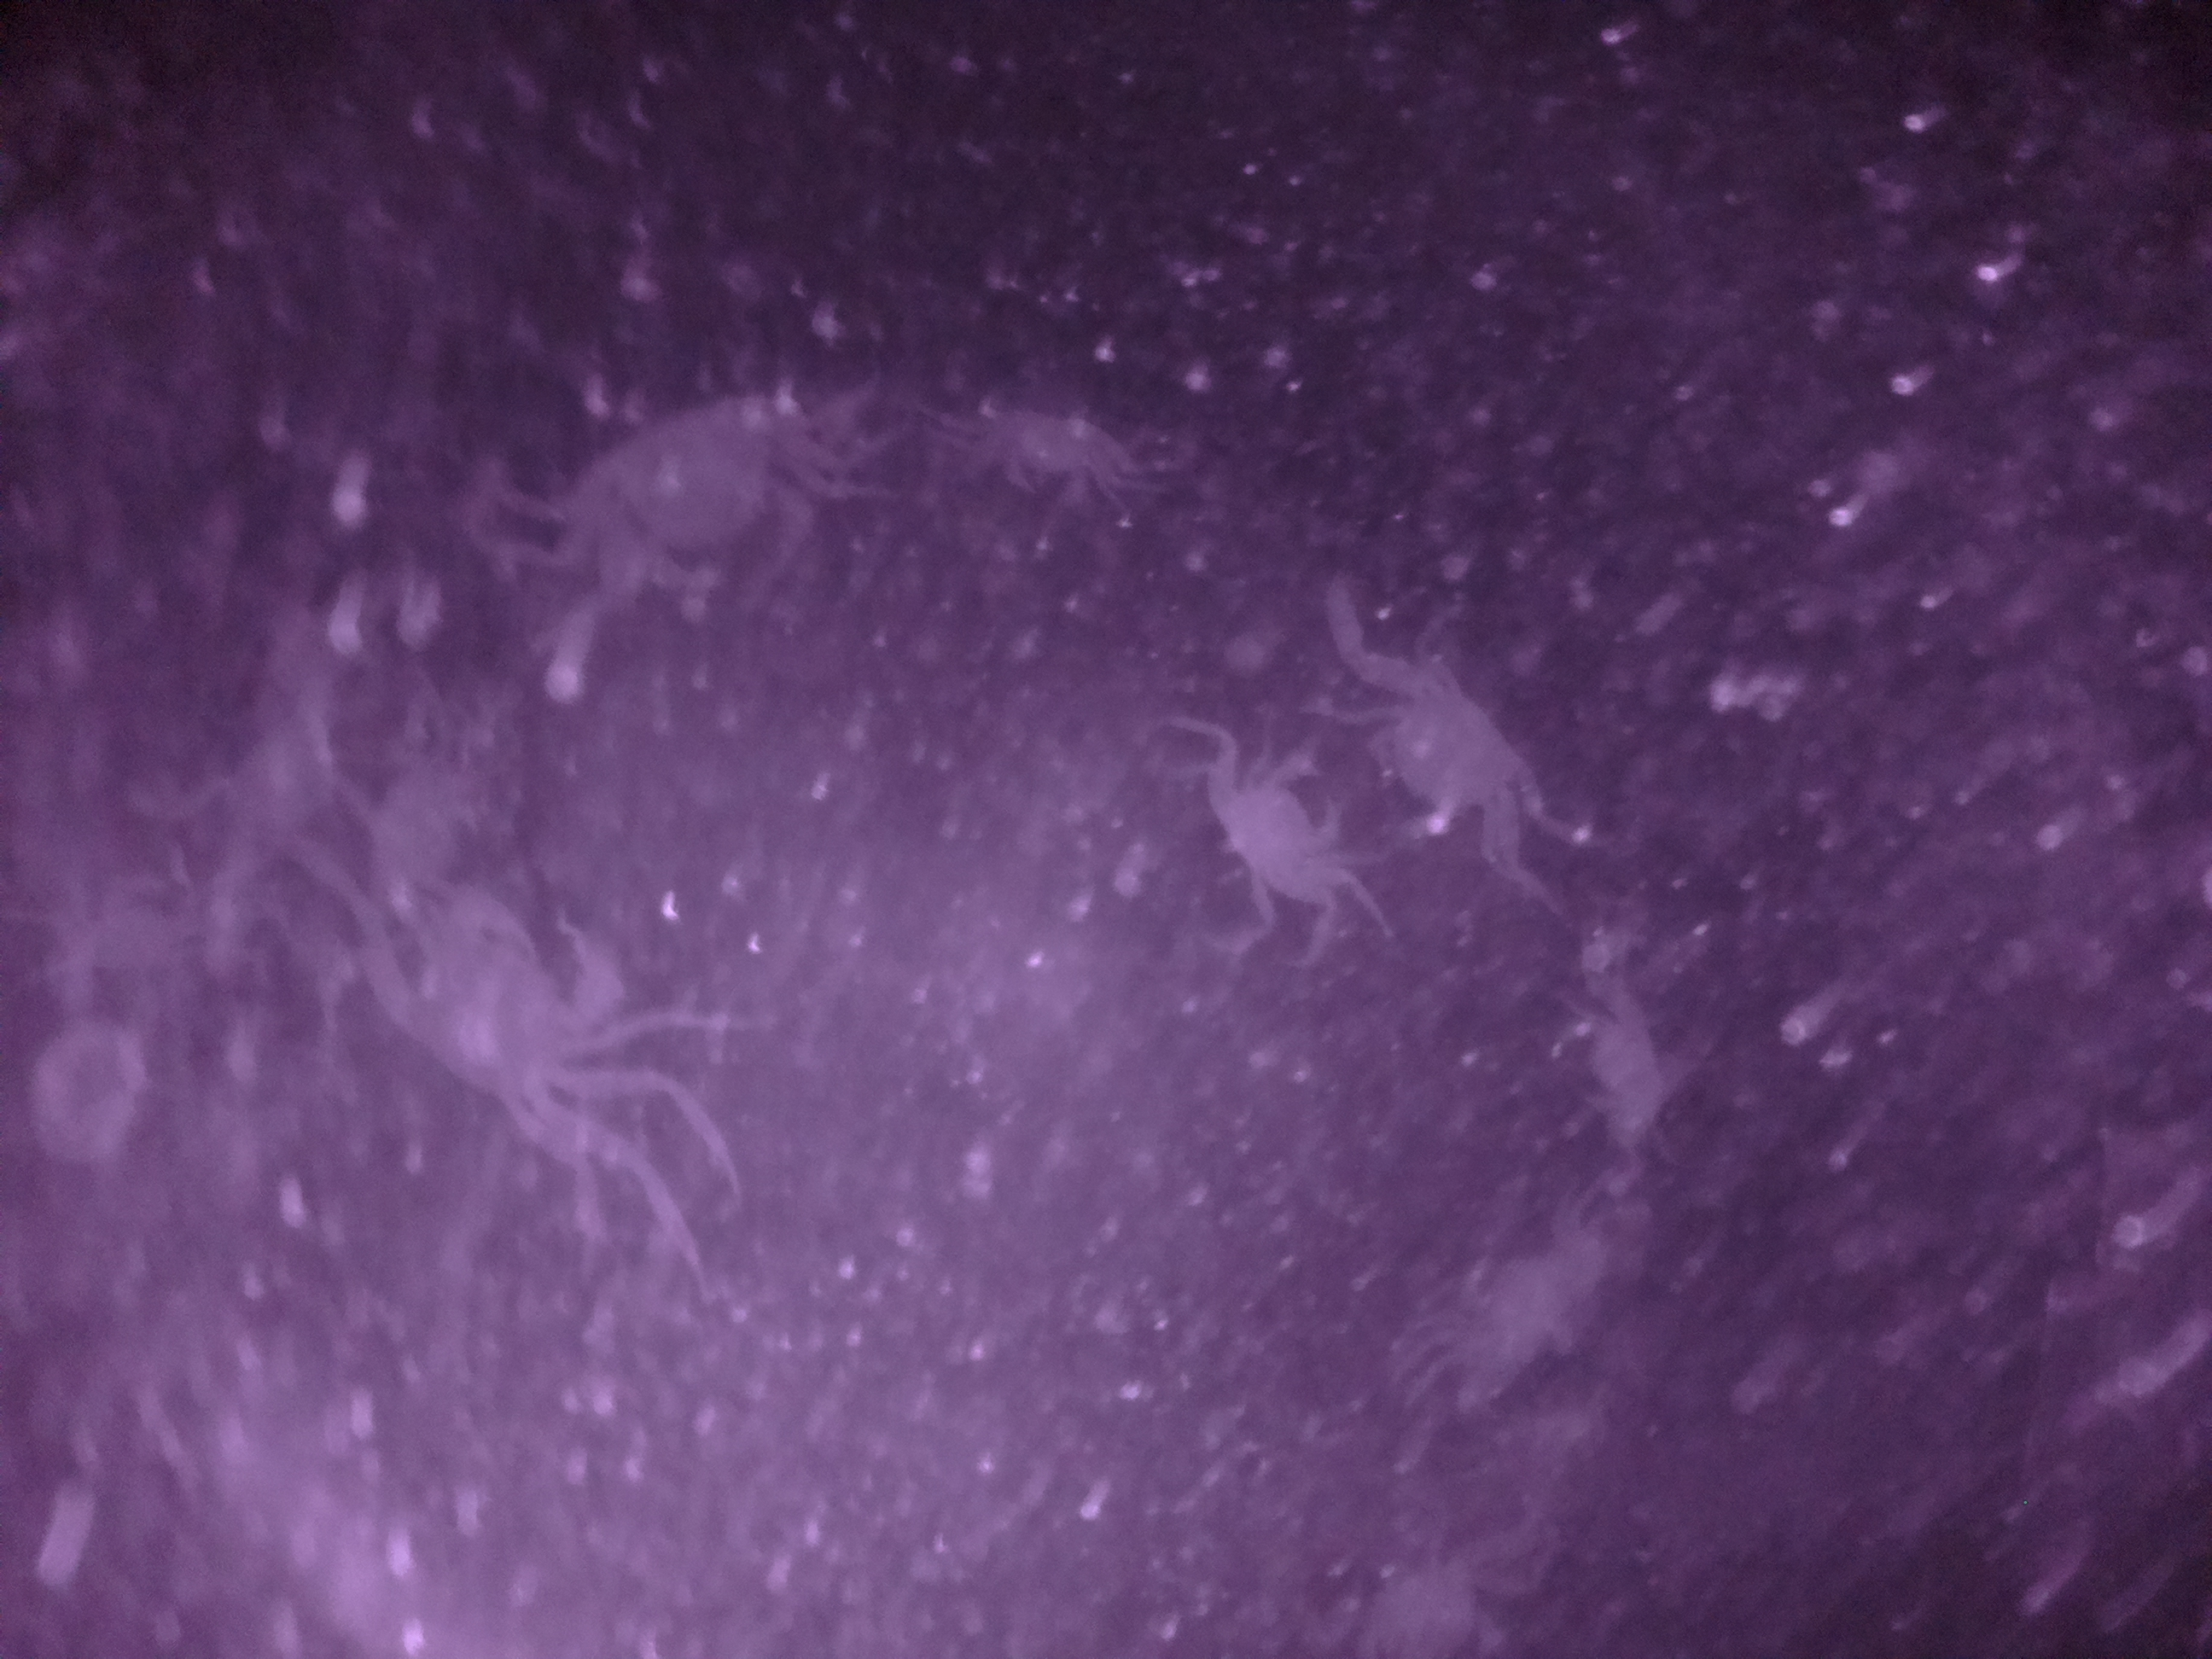Crab: (1345, 626, 1561, 871), (1205, 737, 1359, 924)
